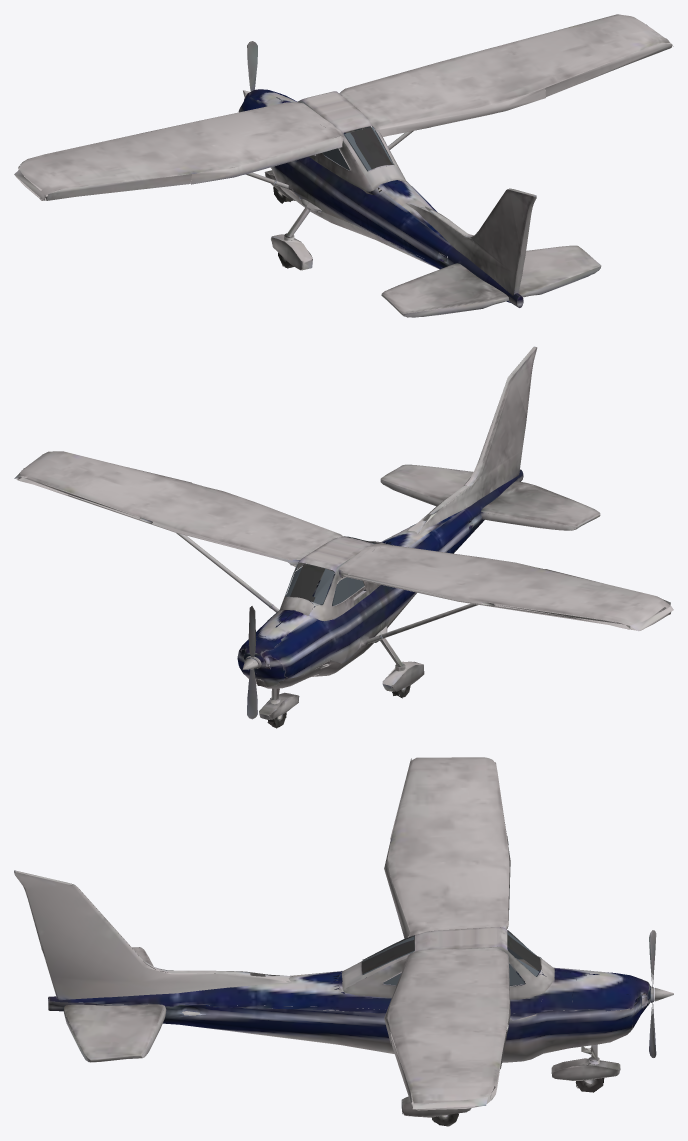
File: c172_npc.glb
3 renders of one model, top to bottom at view 1: azimuth 30°, elevation 25°; view 2: azimuth 150°, elevation 25°; view 3: azimuth 270°, elevation 25°, orthographic. The views are drawn at different scales.
Parts seen in each view (by area): view 1: body, aileron_L, aileron_R, elevator; view 2: body, prop; view 3: body, prop.
Part boxes in pixels (bbox=[...]): body: bbox=[14, 14, 673, 317]; aileron_L: bbox=[46, 174, 191, 200]; aileron_R: bbox=[545, 42, 672, 96]; elevator: bbox=[403, 266, 600, 317]; body: bbox=[14, 346, 673, 728]; prop: bbox=[244, 606, 261, 719]; body: bbox=[14, 757, 673, 1126]; prop: bbox=[648, 930, 656, 1057].
Size of the model in its own units: 11 by 3.28 by 8.83.
2 materials, 1 textured.
